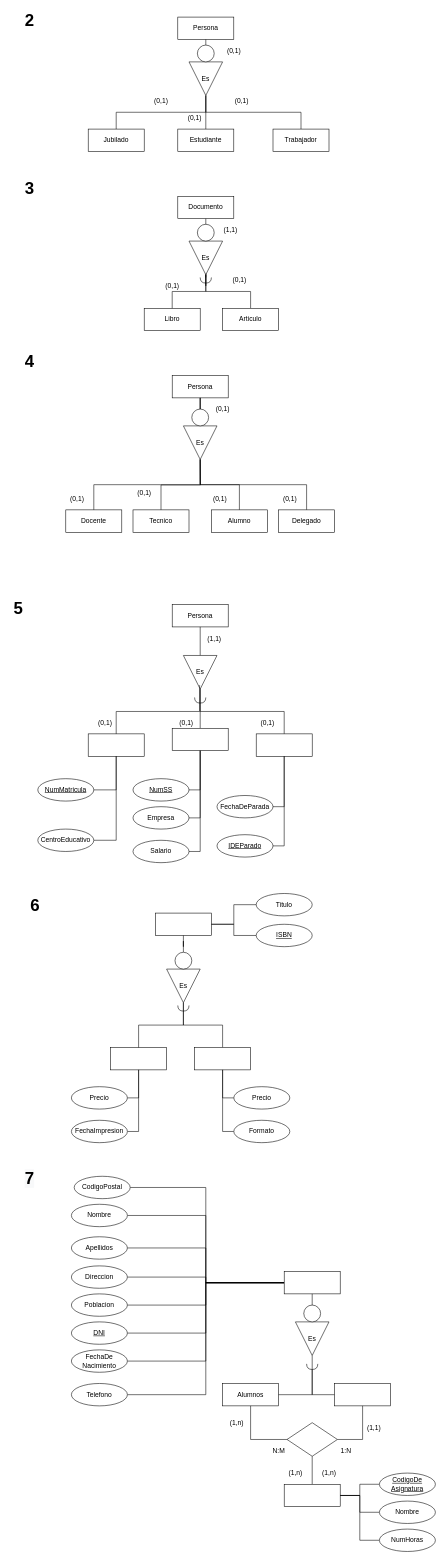
Image size: 445x1561. Some labels were removed from this diagram. The shapes that lost their labels are listed below. From the top down, each one's box as (x1, y1, x2, y2) in pixels, then its label:
(88, 733, 144, 756): Estudiantes
(172, 728, 228, 751): Trabajadores
(256, 733, 312, 756): Parados
(155, 913, 211, 935): Libros
(110, 1047, 167, 1070): Papel
(194, 1047, 251, 1070): Digital
(284, 1271, 340, 1294): Personas
(334, 1383, 391, 1406): Profesores
(286, 1422, 337, 1456): Tienen
(284, 1484, 340, 1507): Asignatura
